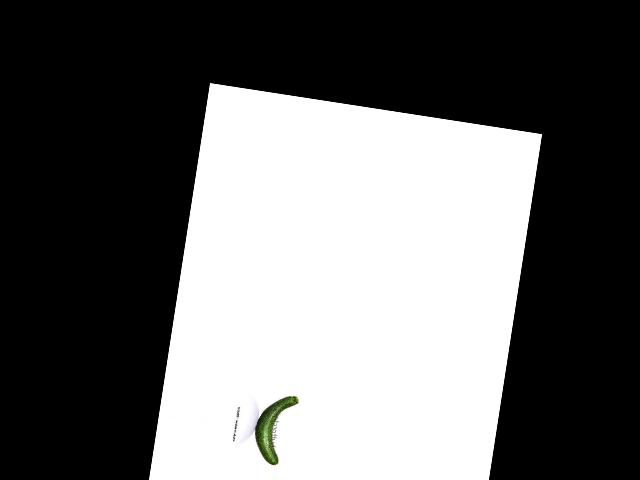cucumber: (250, 391, 299, 467)
